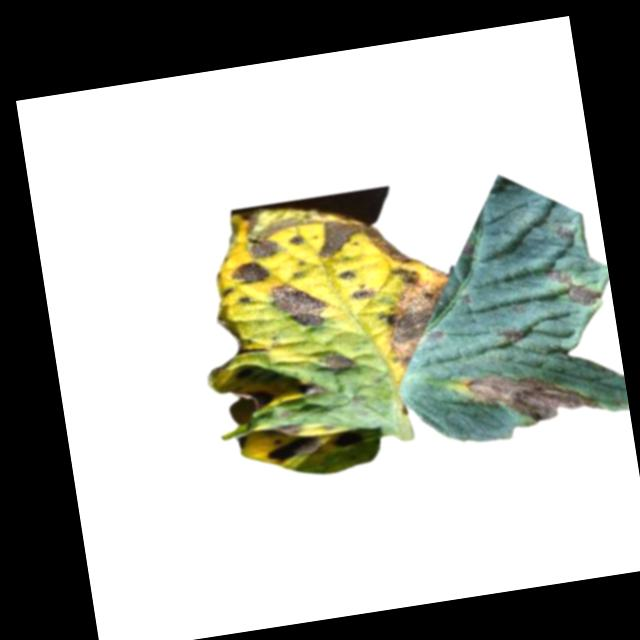Early_blight: (376, 258, 472, 370), (461, 357, 603, 432), (312, 205, 427, 278), (240, 207, 314, 257), (267, 276, 330, 333), (544, 260, 604, 314), (268, 434, 321, 463), (230, 256, 274, 290), (321, 346, 357, 375), (500, 320, 526, 342), (351, 281, 378, 302)
